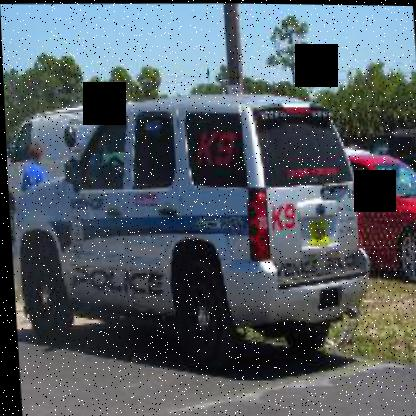emergency: (5, 83, 400, 383)
